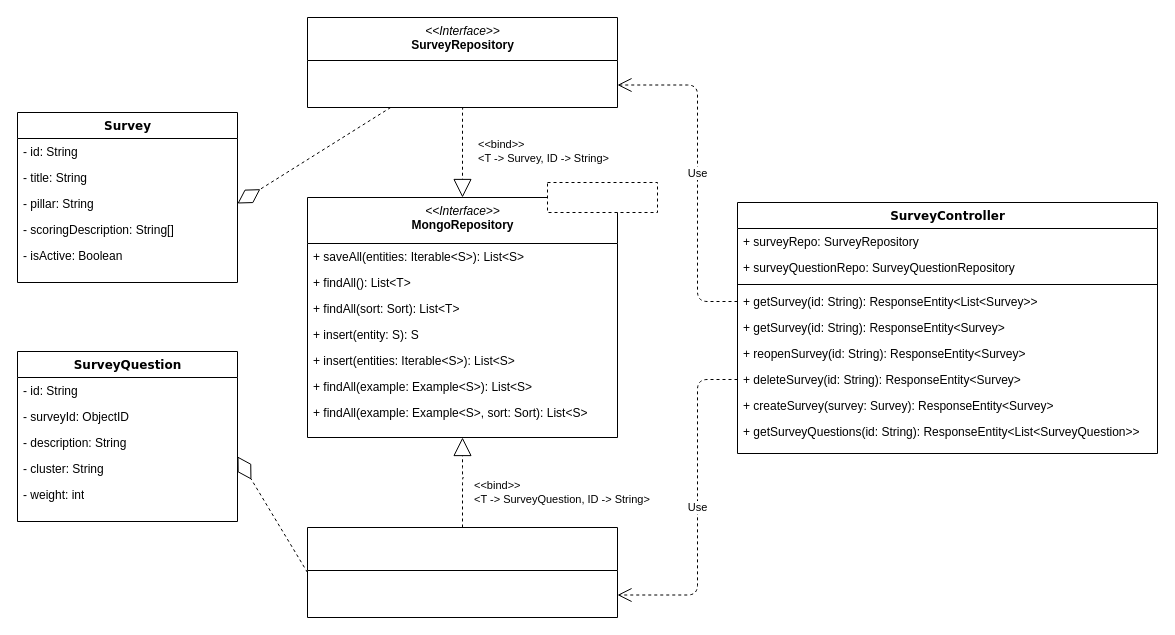
Image size: 1175x635. Some labels were removed from this diagram. The shapes that lost their labels are listed below. From the top down, each one's centre as x and y in pixels, then its label:
At point 602,197: "T, ID".
At point 462,572: "<<Interface>> SurveyQuestionRepository".
